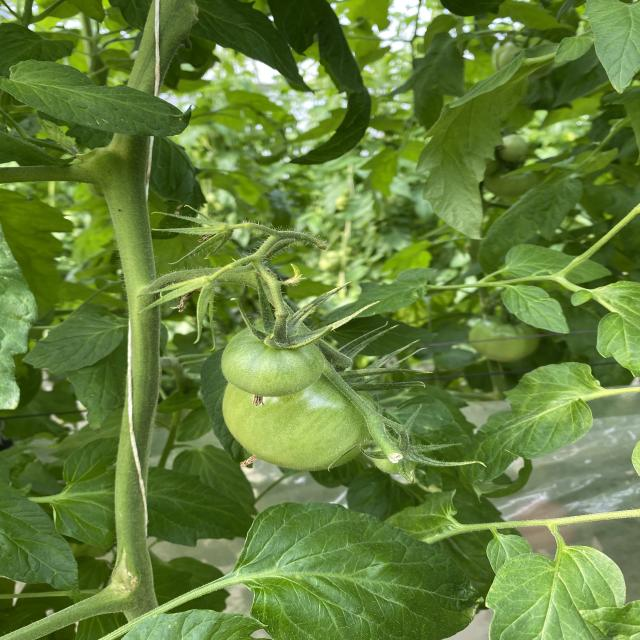yesil: (173, 317, 417, 493)
